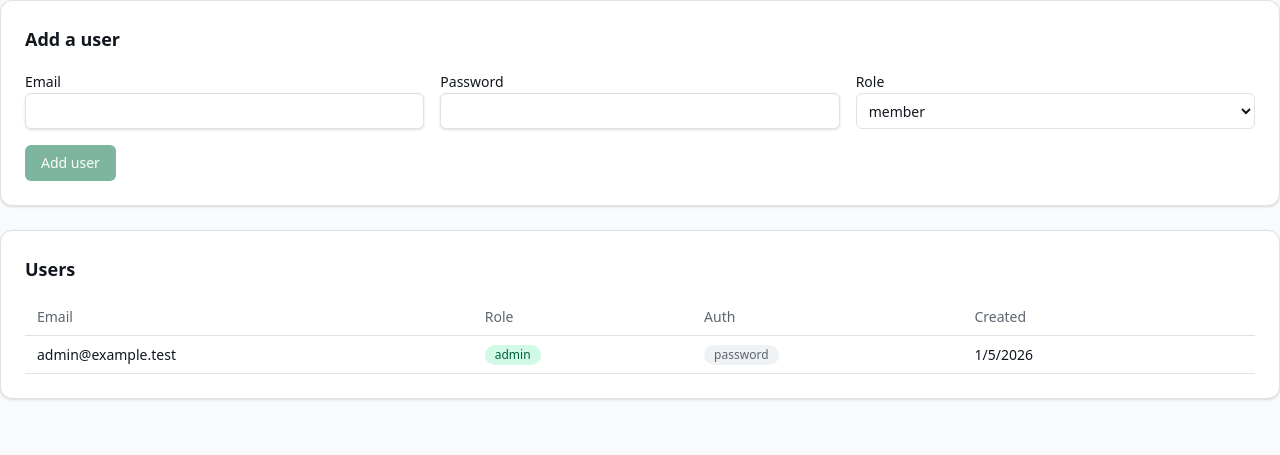
it: Users › adds a user, then refreshes the list and clears the form
Check: the text "admin@example.test" is shown, box [25, 336, 473, 374]
Type "member@example.test" into the field at (225, 111), box [25, 93, 424, 129]
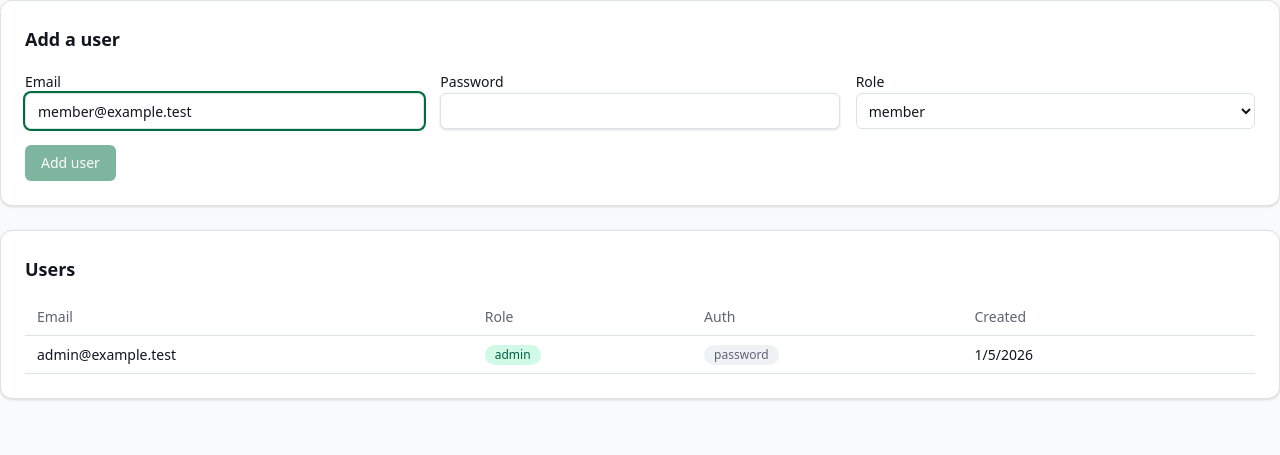
Type "short" into the password field at (640, 111), box [440, 93, 840, 129]
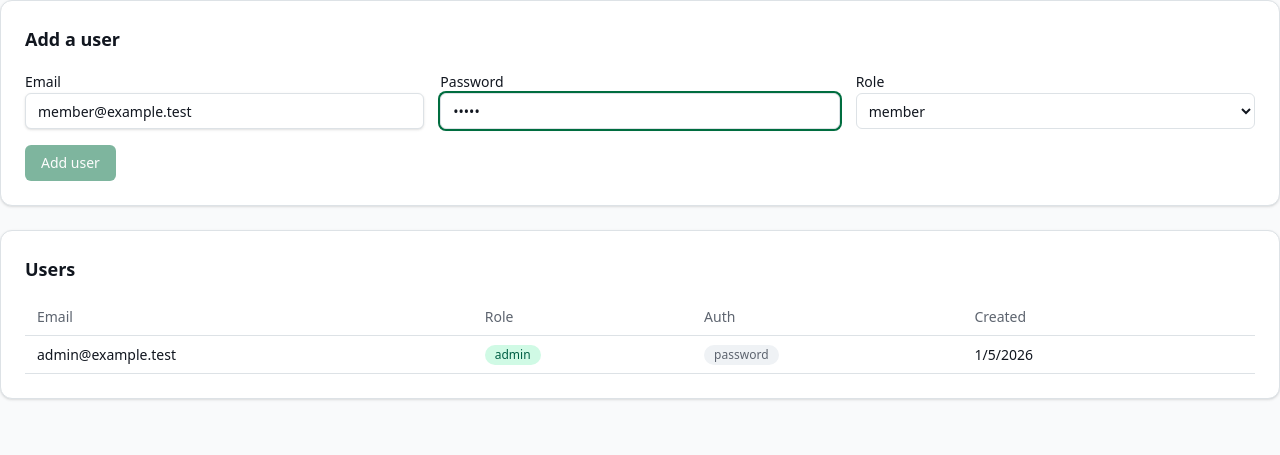
Check: the button "Add user" is disabled, box [25, 145, 116, 181]
Type "-enough" into the password field at (640, 111), box [440, 93, 840, 129]
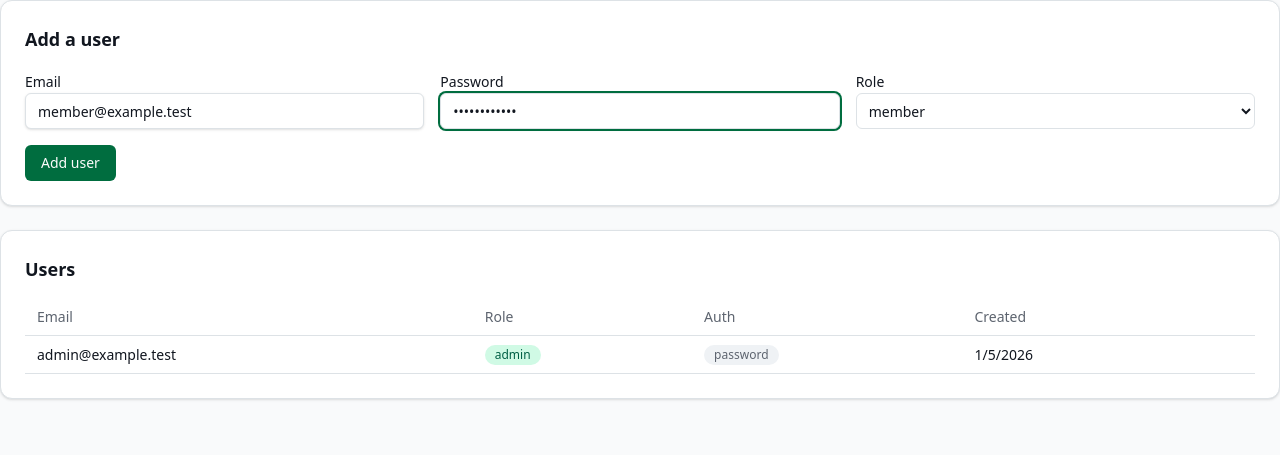
Click the button "Add user" at (70, 163), box [25, 145, 116, 181]
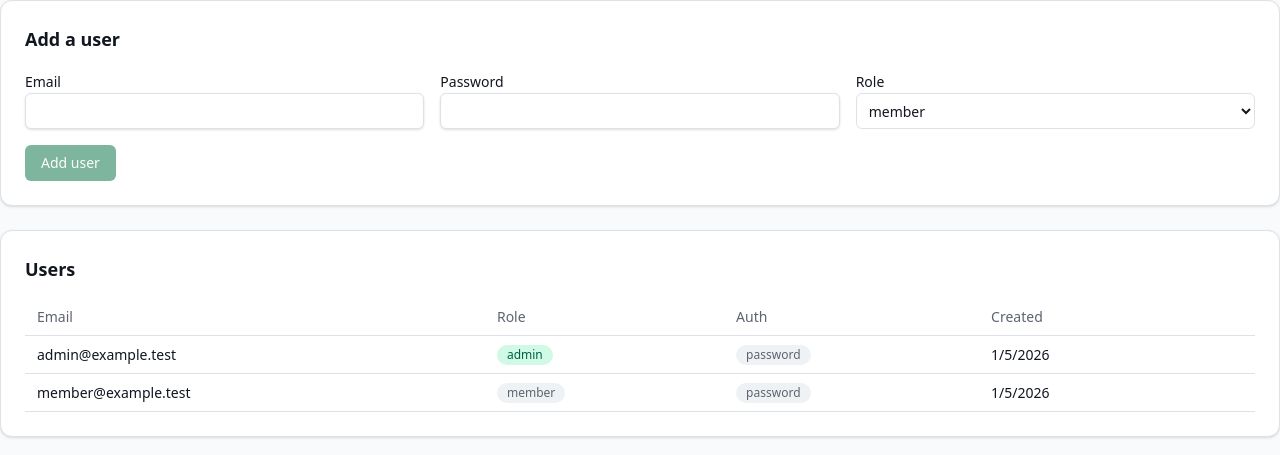
Check: the text "member@example.test" is shown, box [25, 374, 485, 412]
Check: the field is empty, box [25, 93, 424, 129]
Check: the password field is empty, box [440, 93, 840, 129]
